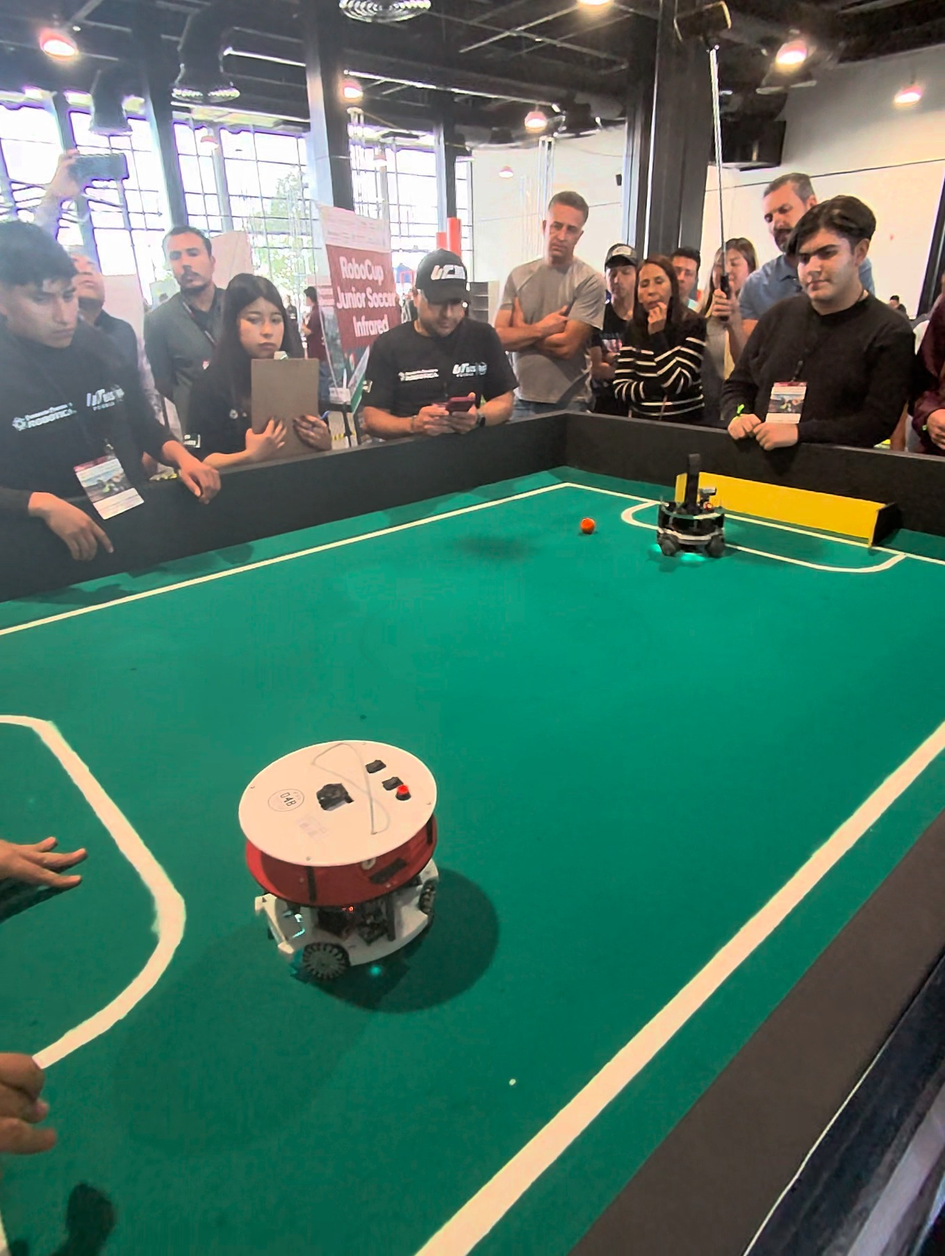Robot: (237, 709, 448, 1017), (653, 450, 730, 567)
pelota: (579, 519, 597, 536)
